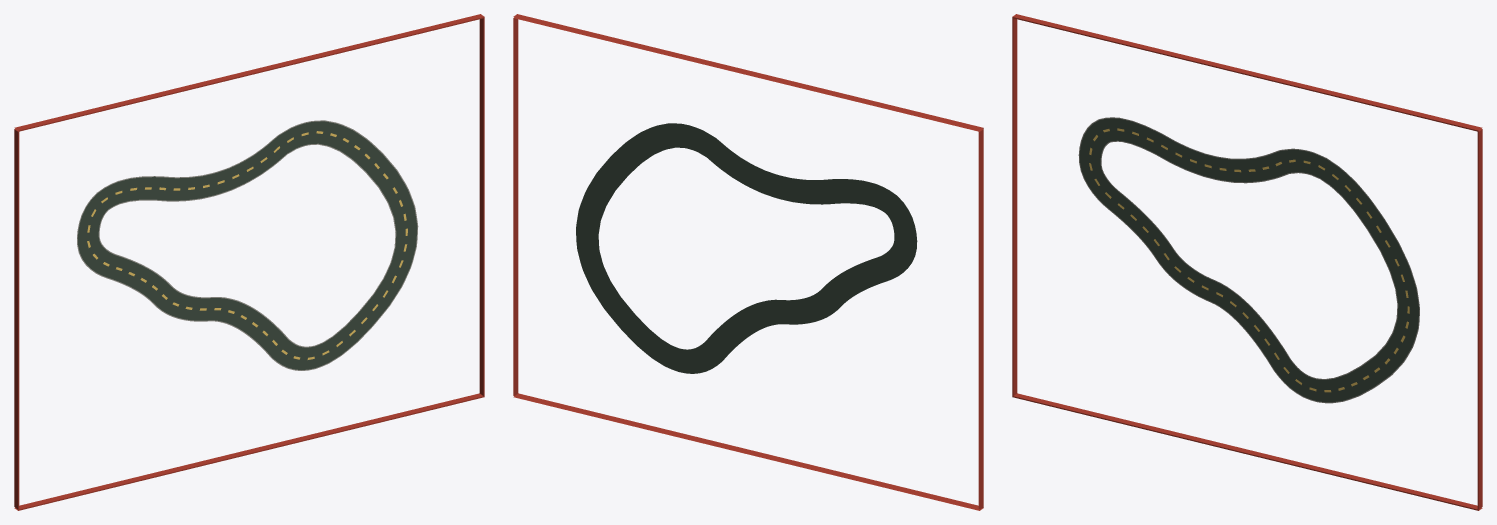
Rendered from track.obj.
3 renders of one model, left to right at view 1: azimuth 30°, elevation 25°; view 2: azimuth 150°, elevation 25°; view 3: azimuth 330°, elevation 25°, orthographic.
Bounding box in the file's own units: 20.44 × 15.92 × 0.3.
Materials: 4 (4 with a texture image).
